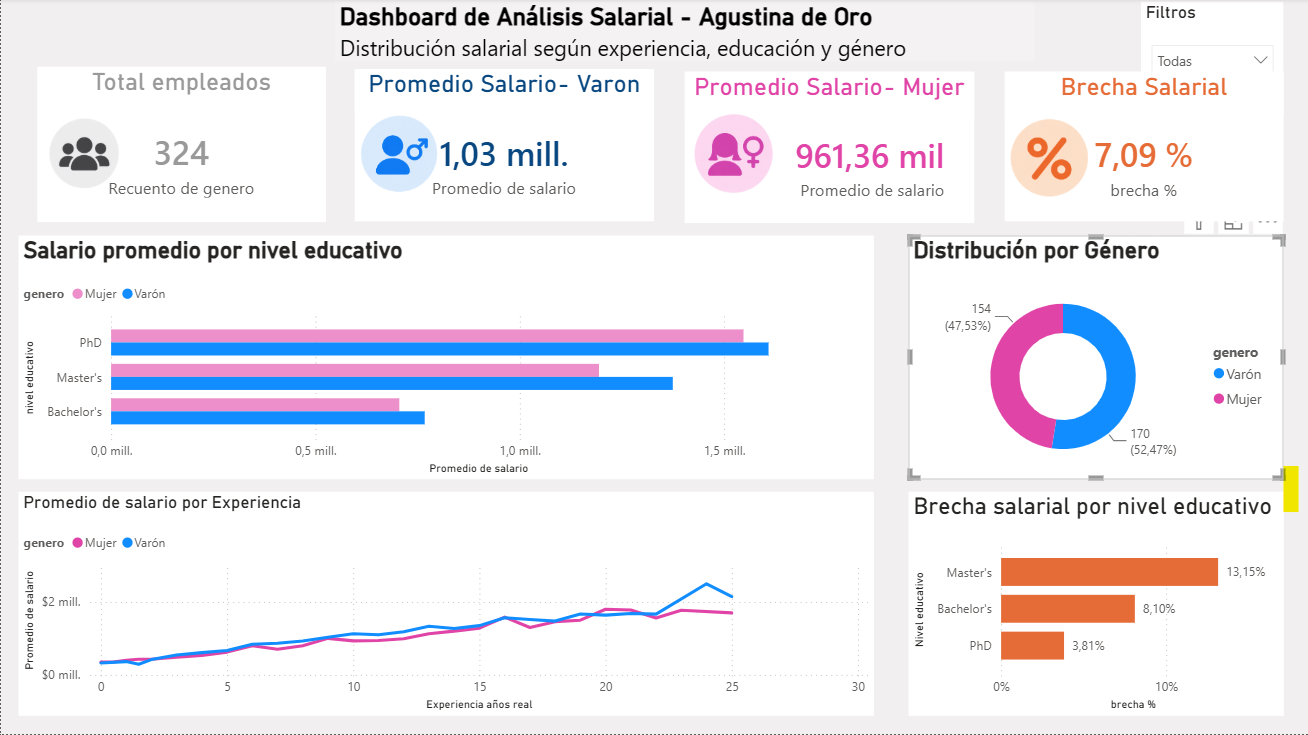

The dashboard page shown, as its layout file describes it:
{"tool":"powerbi","page":{"name":"Página 1","canvas":[1280,720],"ordinal":0},"visuals":[{"type":"cardVisual","title":"Promedio Salario- Varon","fields":{"Data":["Avg(processed_salary_data.salario)"]},"box":[346.5,69.7,293,149.2],"z":0},{"type":"cardVisual","title":"Promedio Salario- Mujer","fields":{"Data":["Avg(processed_salary_data.salario)"]},"box":[668.9,72.1,283.1,147.9],"z":1000},{"type":"clusteredBarChart","title":"Salario promedio por nivel educativo","fields":{"Category":["processed_salary_data.nivel_educativo"],"Y":["Avg(processed_salary_data.salario)"],"Series":["processed_salary_data.genero"]},"box":[17.1,232.3,836.4,238.5],"z":2000},{"type":"cardVisual","title":"Total empleados","fields":{"Data":["CountNonNull(processed_salary_data.genero)"]},"box":[35.5,67.3,282.5,151.6],"z":3000},{"type":"image","box":[346.1,106.2,82.8,99],"z":4000},{"type":"donutChart","title":"Distribución por Género","fields":{"Category":["processed_salary_data.genero"],"Y":["CountNonNull(processed_salary_data.genero)"]},"box":[887.8,232.3,366.8,238.5],"z":5000},{"type":"slicer","title":"Filtros","fields":{"Values":["processed_salary_data.nivel_educativo"]},"box":[1115.2,3.7,139.4,68.5],"z":6000},{"type":"cardVisual","title":"Brecha Salarial","fields":{"Data":["processed_salary_data.brecha %"]},"box":[981.9,72.1,272.7,146.7],"z":7000},{"type":"textbox","title":"Dashboard de Análisis Salarial  - Agustina de Oro","box":[326.5,3.7,684.8,58.7],"z":8000},{"type":"clusteredBarChart","title":"Brecha salarial por nivel educativo","fields":{"Category":["processed_salary_data.nivel_educativo"],"Y":["processed_salary_data.brecha %"]},"box":[887.8,483,366.8,218.9],"z":9000},{"type":"lineChart","title":"Promedio de salario por Experiencia ","fields":{"Y":["Avg(processed_salary_data.salario)"],"Category":["processed_salary_data.Experiencia años real"],"Series":["processed_salary_data.genero"]},"box":[17.1,483,836.4,218.9],"z":10000},{"type":"image","box":[35.5,111.3,89.3,88],"z":11000},{"type":"image","box":[629.8,106.4,167.5,99],"z":12000},{"type":"image","box":[974.6,111.3,99,97.8],"z":13000}]}

Visuals, with their boxes in screenshot pixels (x1, y1, x2, y2), scaled from the page's 1280x720 canvas onto the 1308x735 screenshot:
"Promedio Salario- Varon" cardVisual: (left=354, top=71, right=653, bottom=223)
"Promedio Salario- Mujer" cardVisual: (left=684, top=74, right=973, bottom=225)
"Salario promedio por nivel educativo" clusteredBarChart: (left=17, top=237, right=872, bottom=481)
"Total empleados" cardVisual: (left=36, top=69, right=325, bottom=223)
image: (left=354, top=108, right=438, bottom=209)
"Distribución por Género" donutChart: (left=907, top=237, right=1282, bottom=481)
"Filtros" slicer: (left=1140, top=4, right=1282, bottom=74)
"Brecha Salarial" cardVisual: (left=1003, top=74, right=1282, bottom=223)
"Dashboard de Análisis Salarial  - Agustina de Oro" textbox: (left=334, top=4, right=1033, bottom=64)
"Brecha salarial por nivel educativo" clusteredBarChart: (left=907, top=493, right=1282, bottom=717)
"Promedio de salario por Experiencia " lineChart: (left=17, top=493, right=872, bottom=717)
image: (left=36, top=114, right=128, bottom=203)
image: (left=644, top=109, right=815, bottom=210)
image: (left=996, top=114, right=1097, bottom=213)
